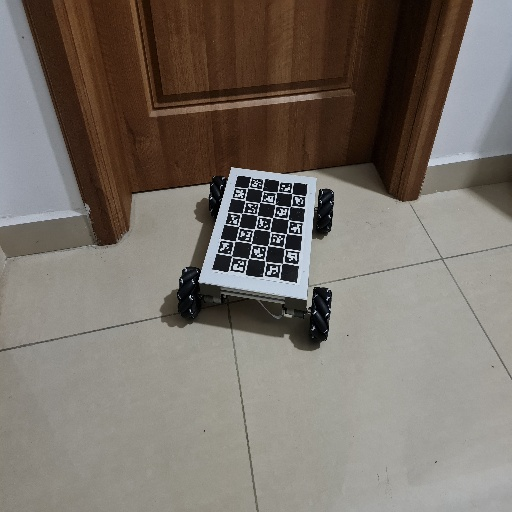Omniwheel: (176, 165, 335, 343)
